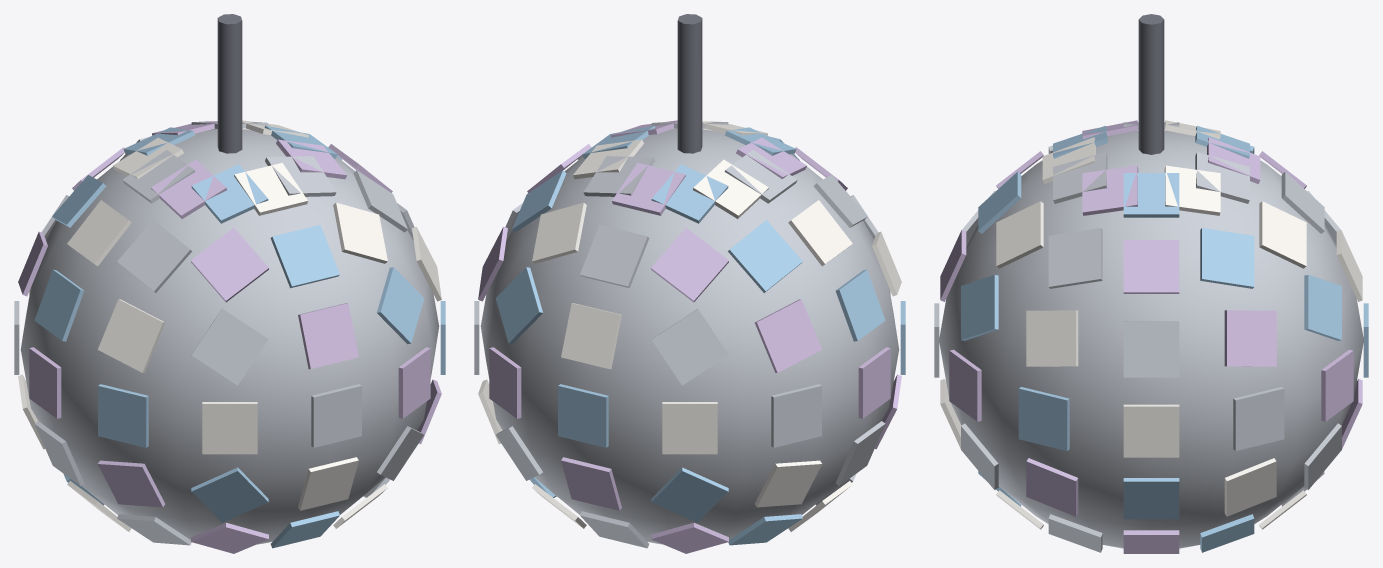
The model's file is 09_bola_discoteca.glb.
3 views of the same model, side by side, from view 1: azimuth 30°, elevation 25°; view 2: azimuth 150°, elevation 25°; view 3: azimuth 270°, elevation 25° (orthographic).
Visible parts, largest first — view 1: ball (×4), body; view 2: ball (×4), body; view 3: ball (×4), body.
Boxes of the visible parts, bbox=[...] form: ball (×4): bbox=[14, 120, 445, 553]; body: bbox=[217, 14, 242, 153]; ball (×4): bbox=[474, 120, 905, 553]; body: bbox=[677, 14, 702, 153]; ball (×4): bbox=[934, 120, 1368, 553]; body: bbox=[1138, 14, 1164, 154].
Bounding box in the file's own units: 0.613 × 0.8 × 0.613.
